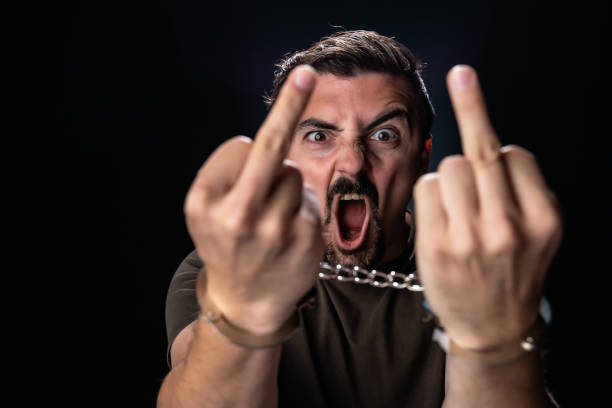insulting_gesture: (411, 63, 563, 344), (182, 58, 328, 322)
